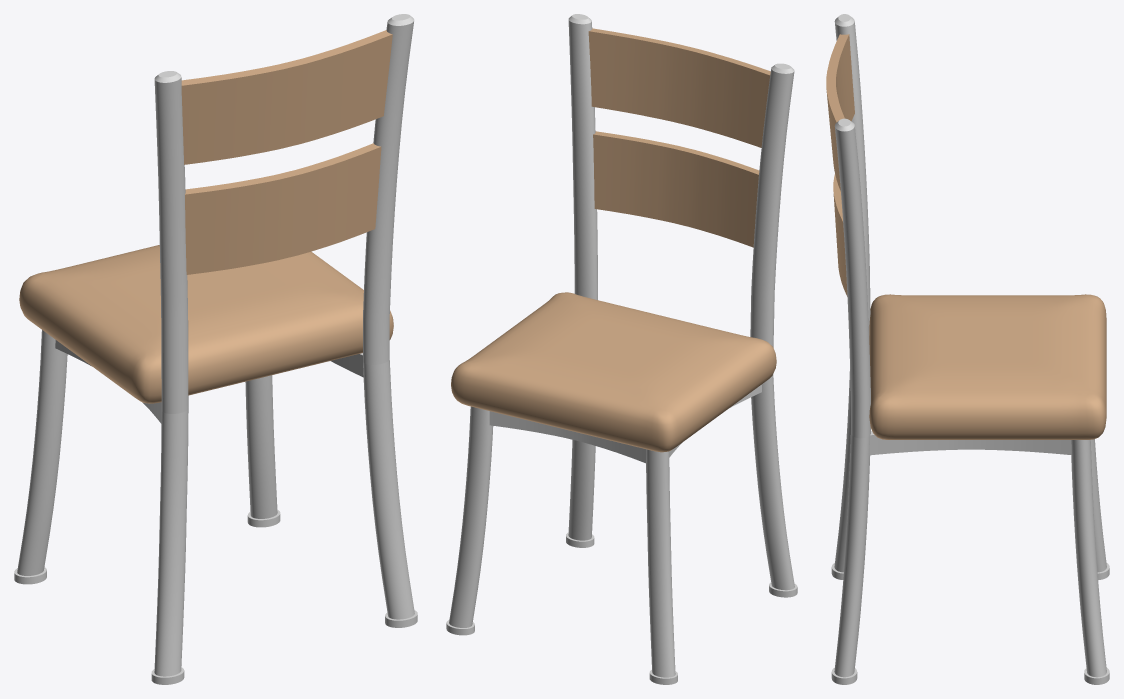
Rendered from Chaise3_7.fbx.
3 renders of one model, left to right at view 1: azimuth 30°, elevation 25°; view 2: azimuth 150°, elevation 25°; view 3: azimuth 270°, elevation 25°, orthographic. The views are drawn at different scales.
Parts seen in each view (by area): view 1: pCube2672, pCube2679, pCube2680, pCylinder1672, pCylinder1671, pCylinder1667, pCylinder1668, pCylinder1670, pCylinder1669; view 2: pCube2672, pCube2679, pCube2680, pCylinder1672, pCylinder1671, pCylinder1670, pCylinder1669, pCylinder1667, pCylinder1668, pCube2674; view 3: pCube2672, pCylinder1671, pCylinder1668, pCylinder1669, pCube2675, pCube2679, pCylinder1672, pCylinder1667, pCylinder1670, pCube2680.
Part boxes in pixels (box(x1,y1,x2,y2)): pCube2672: box(19, 245, 393, 403); pCube2679: box(181, 30, 392, 164); pCube2680: box(185, 143, 381, 274); pCylinder1672: box(154, 71, 188, 413); pCylinder1671: box(363, 14, 414, 364); pCylinder1667: box(151, 408, 188, 684); pCylinder1668: box(363, 360, 417, 627); pCylinder1670: box(14, 330, 67, 584); pCylinder1669: box(245, 375, 280, 527); pCube2672: box(451, 292, 776, 452); pCube2679: box(588, 28, 770, 147); pCube2680: box(593, 131, 759, 247); pCylinder1672: box(750, 63, 794, 347); pCylinder1671: box(568, 14, 597, 299); pCylinder1670: box(646, 449, 677, 684); pCylinder1669: box(446, 406, 493, 635); pCylinder1667: box(751, 374, 797, 597); pCylinder1668: box(566, 439, 595, 547); pCube2674: box(489, 411, 645, 463); pCube2672: box(869, 294, 1106, 439); pCylinder1671: box(834, 118, 870, 438); pCylinder1668: box(831, 434, 870, 684); pCylinder1669: box(1071, 440, 1109, 684); pCube2675: box(869, 431, 1071, 455); pCube2679: box(826, 34, 854, 191); pCylinder1672: box(834, 14, 870, 335); pCylinder1667: box(831, 369, 850, 579); pCylinder1670: box(1090, 439, 1109, 579); pCube2680: box(833, 174, 847, 296).
Size of the model in its own units: 39.07 by 85.74 by 39.63.
